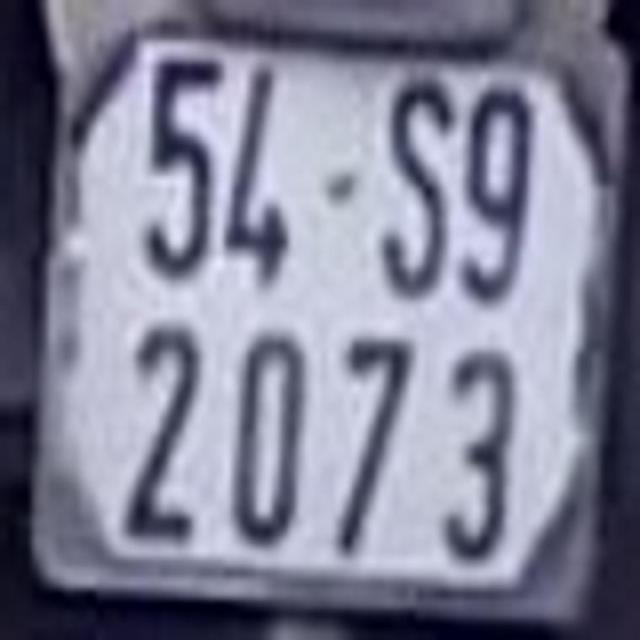0: (232, 322, 302, 544)
2: (118, 322, 206, 536)
3: (438, 345, 509, 560)
4: (229, 59, 295, 288)
5: (143, 53, 220, 274)
7: (332, 331, 417, 558)
9: (464, 76, 530, 308)
S: (371, 70, 448, 290)
